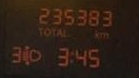2: (37, 6, 49, 24)
3: (56, 47, 68, 67), (75, 7, 86, 26), (101, 9, 112, 27), (10, 45, 21, 63), (50, 7, 61, 24)
4: (74, 48, 86, 65)
5: (87, 48, 98, 67), (63, 7, 74, 25)
8: (88, 9, 99, 26)
X: (62, 27, 69, 38), (50, 26, 56, 38), (100, 31, 110, 38), (43, 27, 50, 36), (37, 26, 43, 35), (69, 51, 73, 64), (56, 27, 61, 37), (94, 29, 99, 38)
